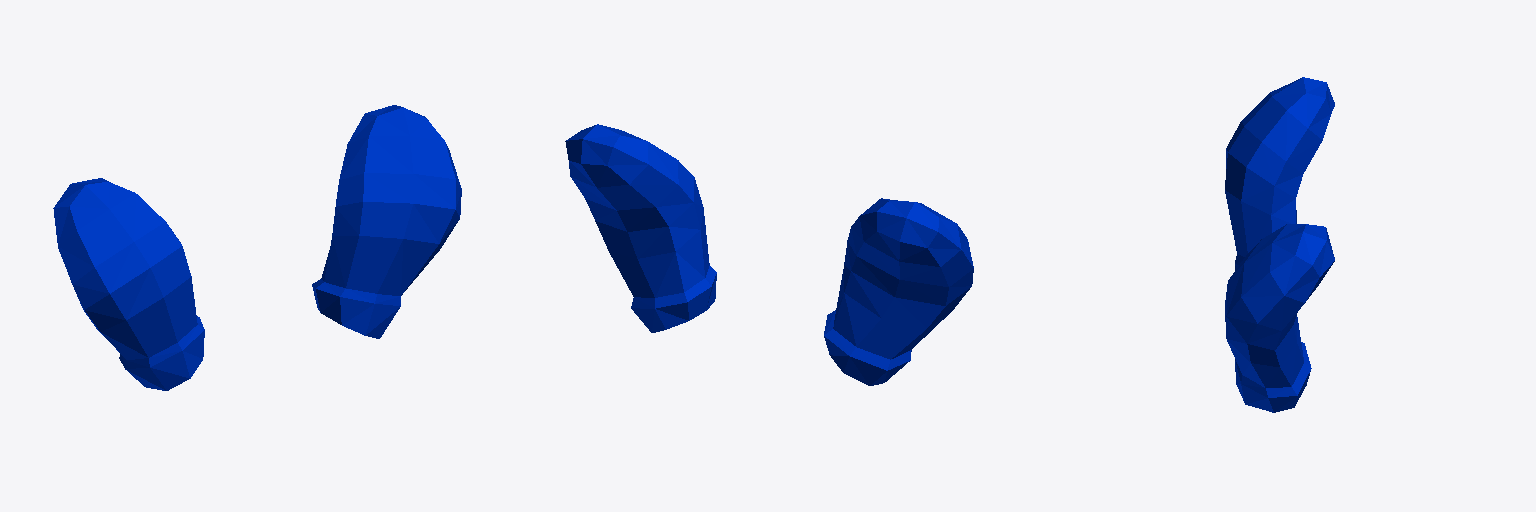
File: Ears.obj
3 views of the same model, side by side, from view 1: azimuth 30°, elevation 25°; view 2: azimuth 150°, elevation 25°; view 3: azimuth 270°, elevation 25° (orthographic).
Visible parts, largest first — view 1: Ears; view 2: Ears; view 3: Ears.
Boxes of the visible parts, x1,y1,x2,y2 form: Ears: [53, 105, 461, 390]; Ears: [565, 124, 973, 385]; Ears: [1225, 77, 1334, 412].
Size of the model in its own units: 2.49 by 1.23 by 0.6088.